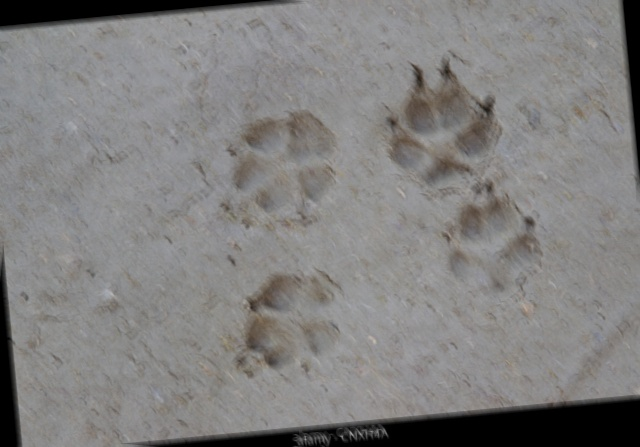fox: (355, 0, 570, 333), (182, 104, 371, 254), (215, 251, 350, 398)
